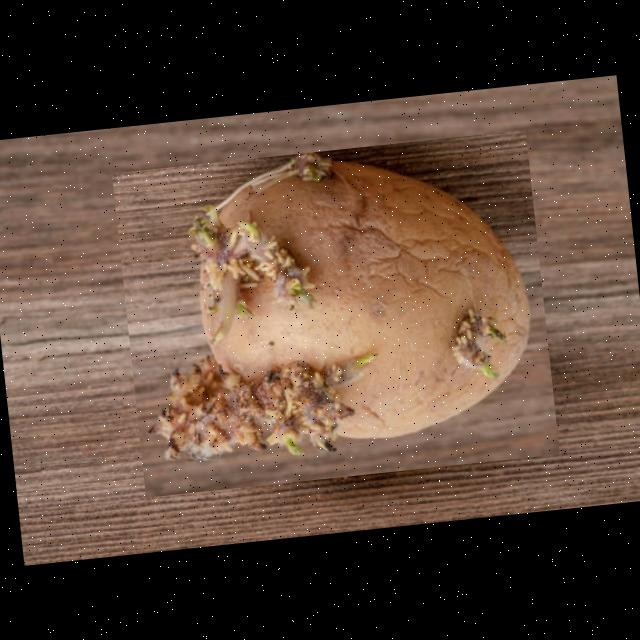Sprouted potato: (111, 130, 560, 498)
